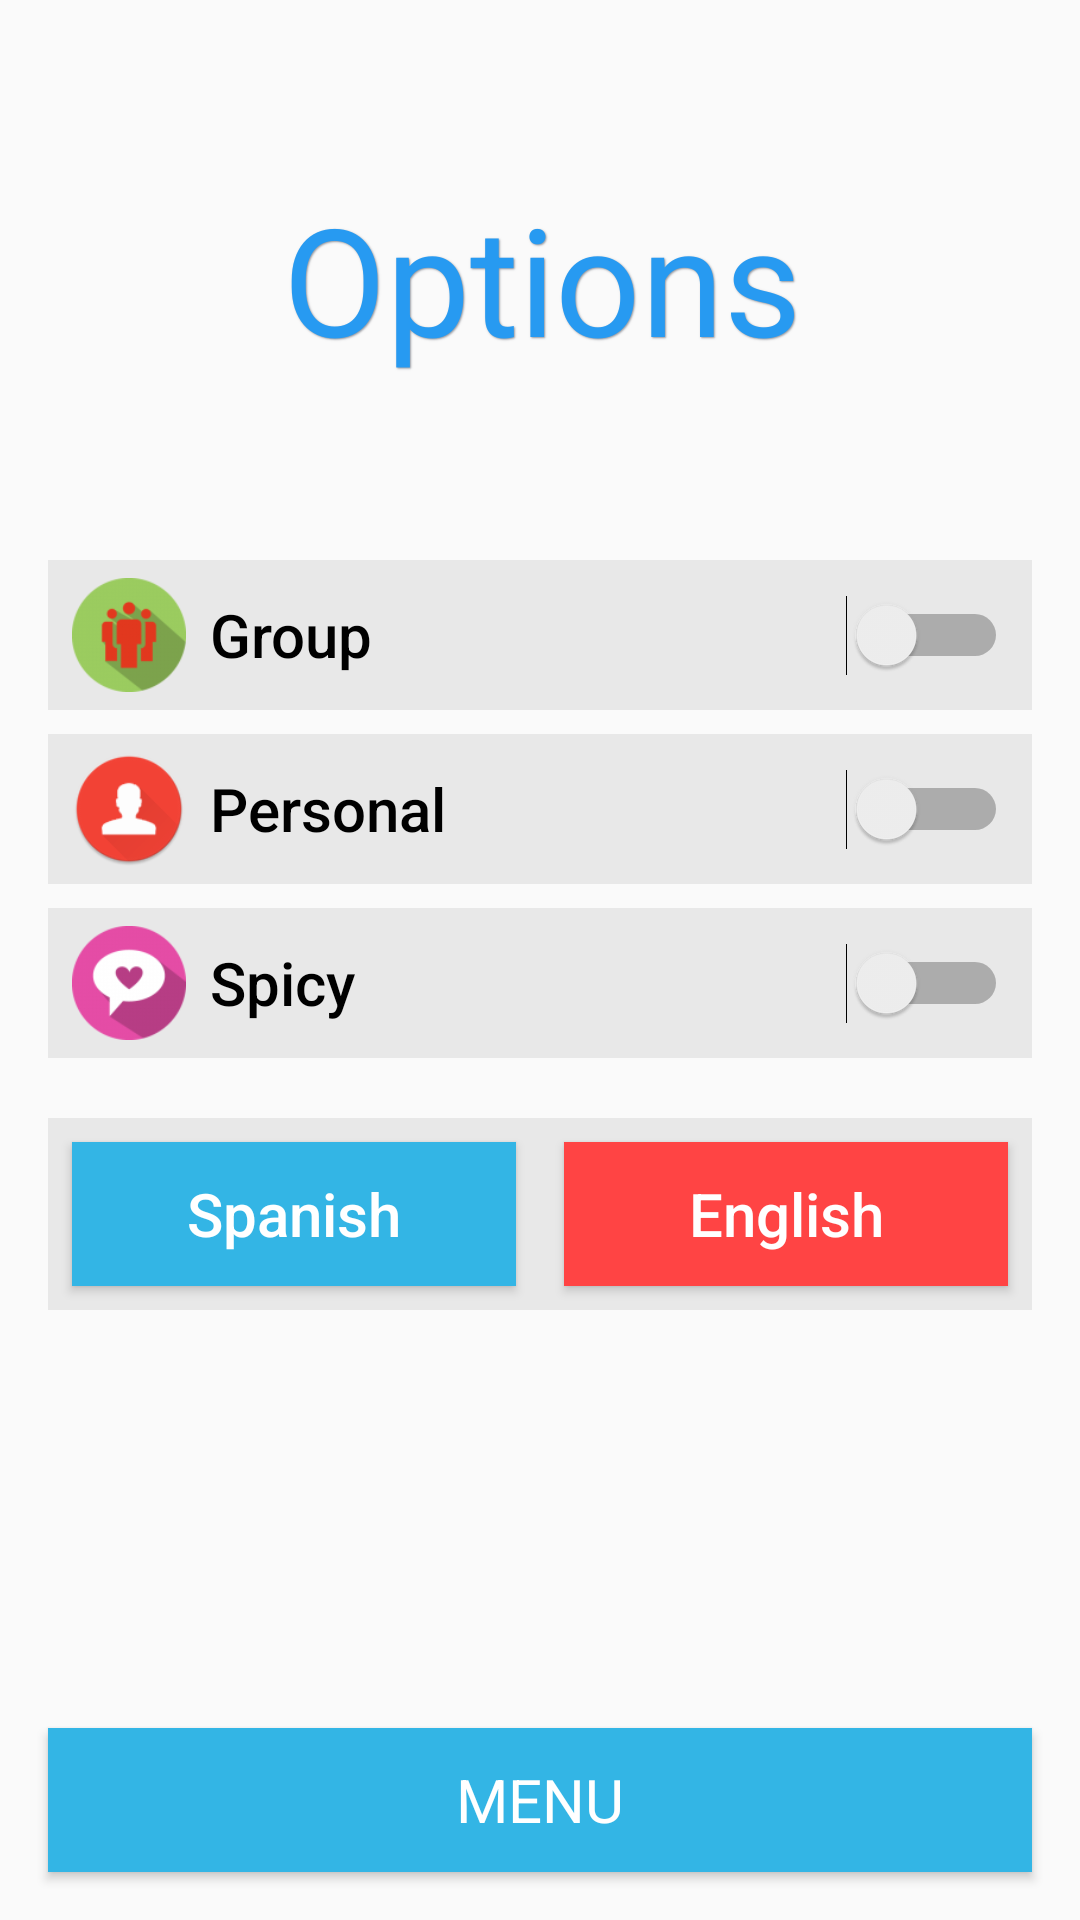

Named icons in this screenshot (1080*1920) and their centers, [x,y]:
lovecon: [129,983]
playericon: [129,810]
todos: [129,635]
